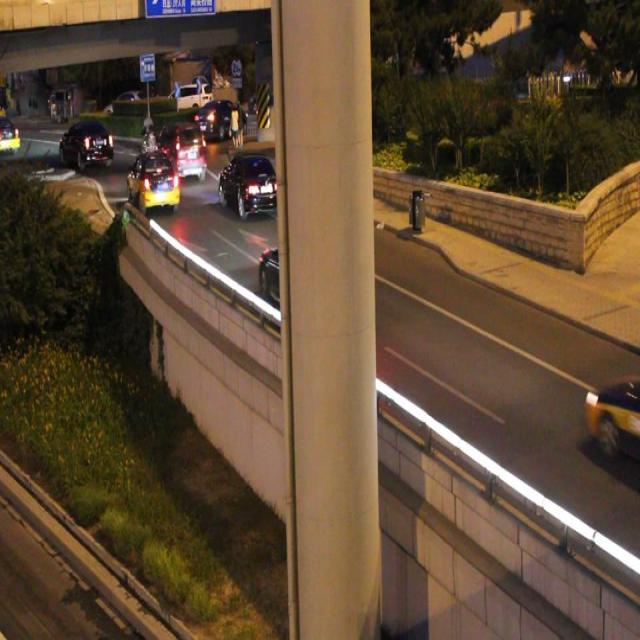car: (258, 226, 362, 324), (217, 152, 280, 219), (127, 146, 180, 211), (156, 118, 206, 179)
